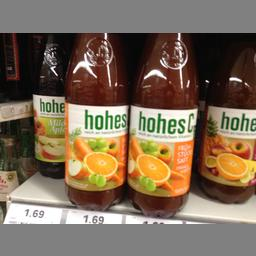juice: (126, 34, 200, 220), (63, 34, 127, 212), (198, 32, 255, 203), (30, 33, 66, 176)
